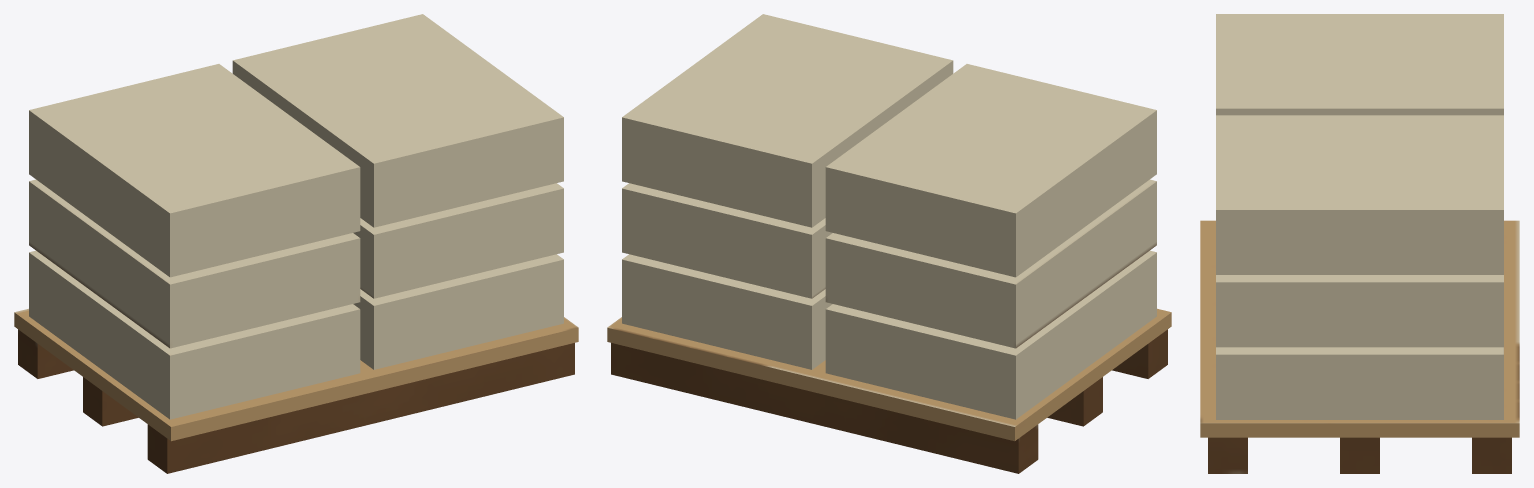
Rendered from paleta_b77a6775.glb.
3 views of the same model, side by side, from view 1: azimuth 30°, elevation 25°; view 2: azimuth 150°, elevation 25°; view 3: azimuth 270°, elevation 25° (orthographic).
Visible parts, largest first — view 1: dum; view 2: dum; view 3: dum.
Part boxes in pixels (x1=…): dum: x1=14, y1=14, x2=578, y2=473; dum: x1=607, y1=14, x2=1171, y2=473; dum: x1=1200, y1=14, x2=1519, y2=473.
Bounding box in the file's own units: 1.2 × 0.7182 × 0.798.
1 material, 1 textured.
